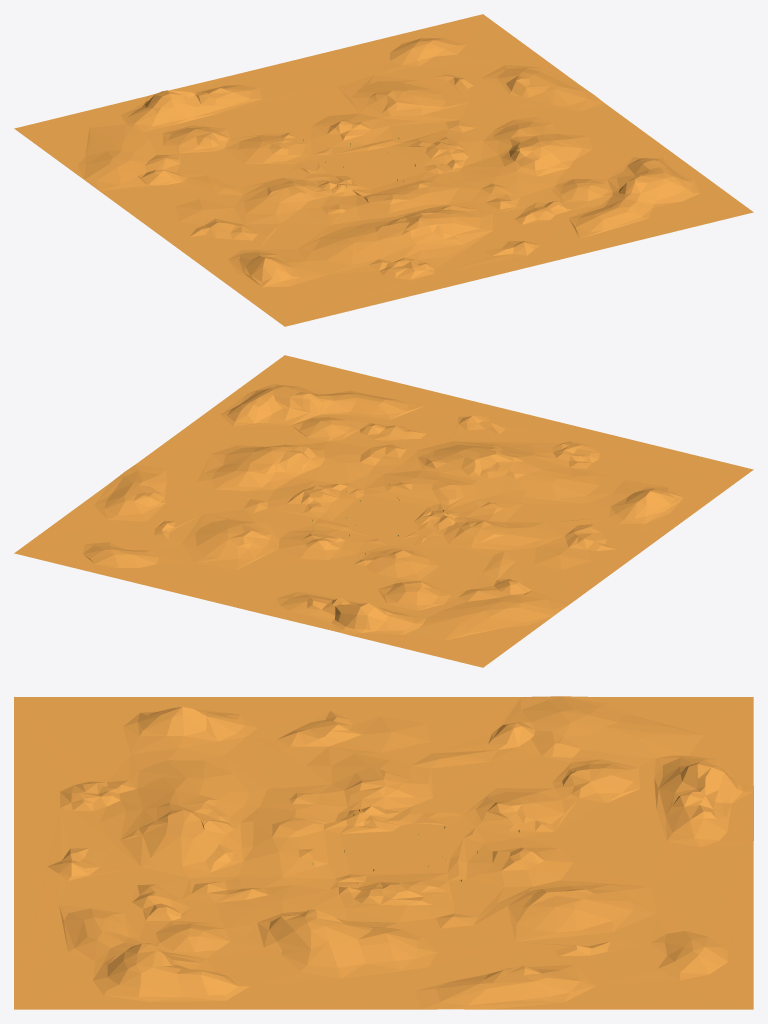
Rendered from desert.glb.
The picture shows the model from 3 angles, top to bottom: view 1: azimuth 30°, elevation 25°; view 2: azimuth 150°, elevation 25°; view 3: azimuth 270°, elevation 25°; orthographic projection. The views are drawn at different scales.
Visible parts, largest first — view 1: Terrain; view 2: Terrain; view 3: Terrain.
Boxes of the visible parts, x1,y1,x2,y2 form: Terrain: [14, 14, 753, 326]; Terrain: [14, 355, 753, 667]; Terrain: [14, 696, 753, 1009].
Bounding box in the file's own units: 501 × 17.89 × 500.
1 material, 1 textured.
